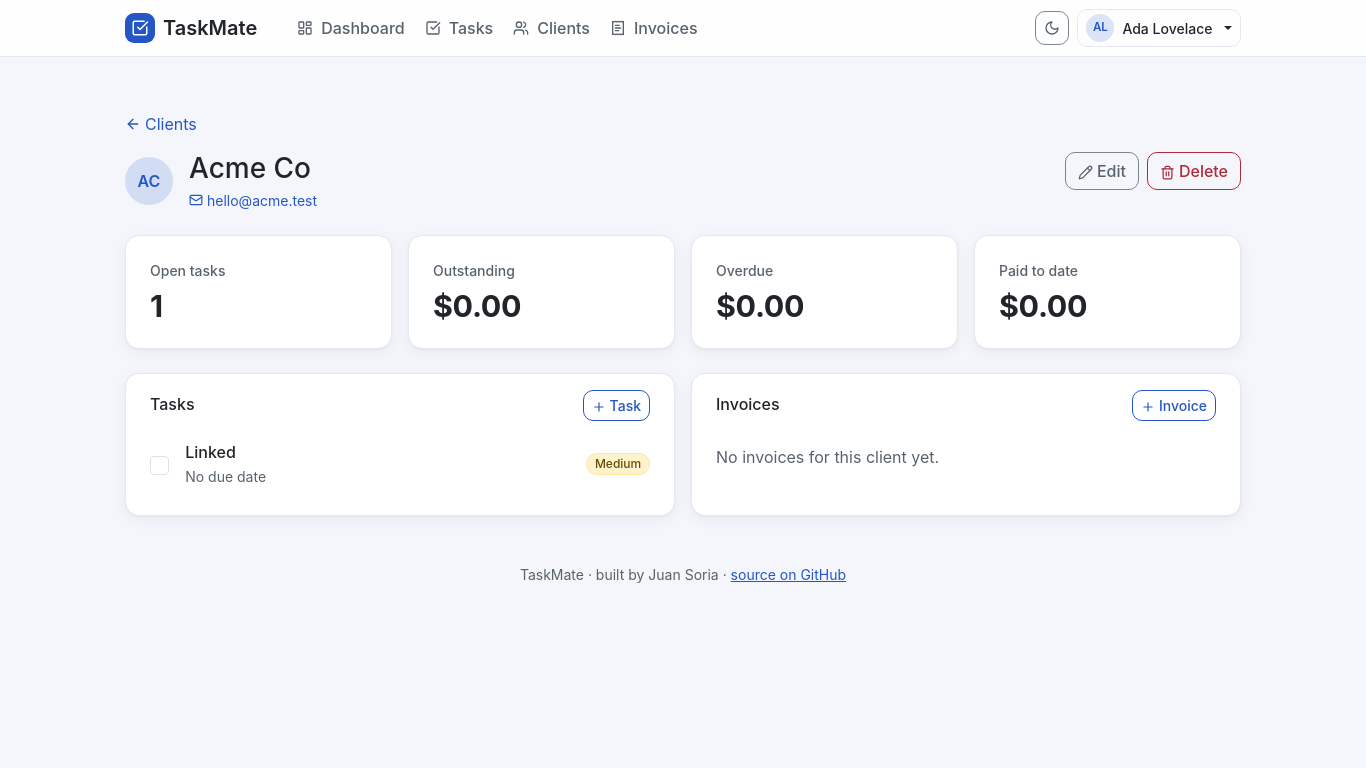
Test case: failed writes › client page: ticking a task
The image size is (1366, 768).
Step 1. Click the checkbox named "Mark “Linked” as complete" → (160, 466), box x1=150 y1=456 x2=169 y2=475
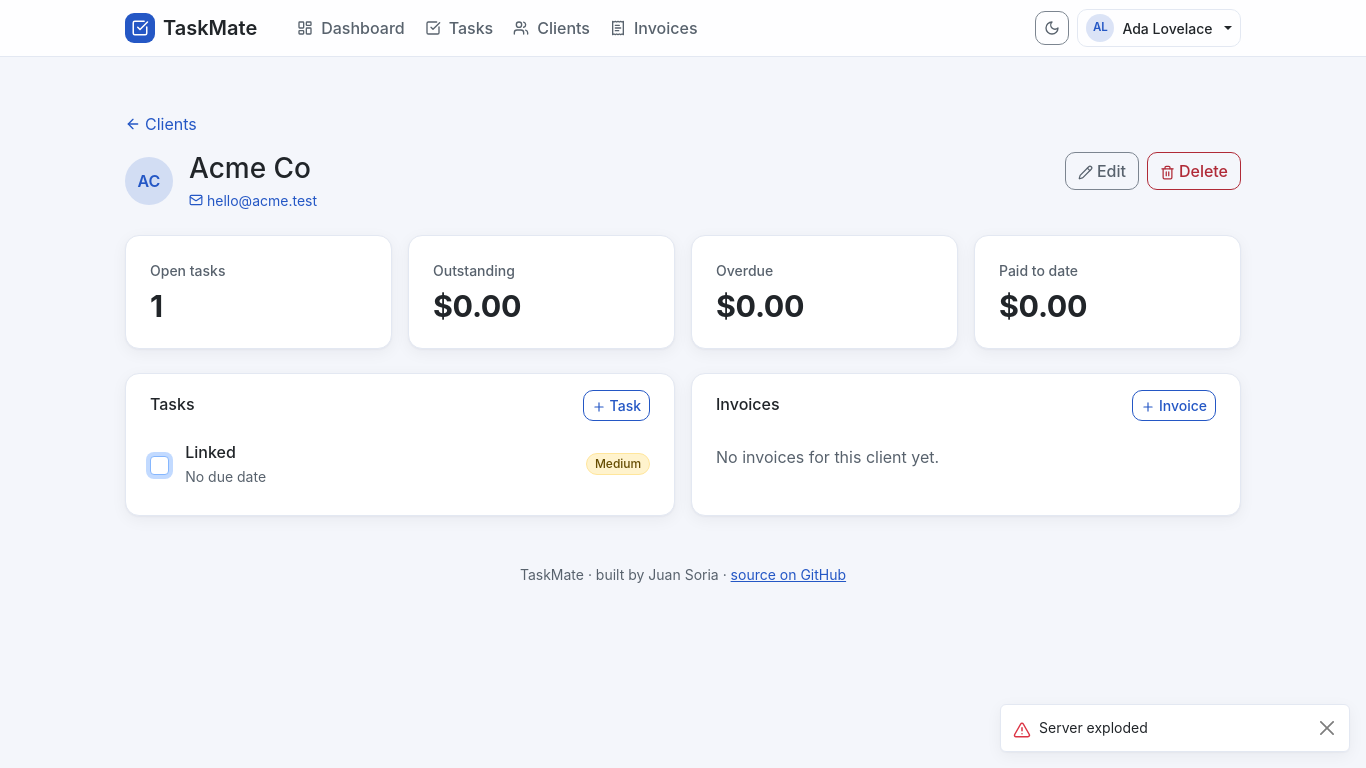
Check: the message reads "Server exploded", box x1=1039 y1=719 x2=1148 y2=736
